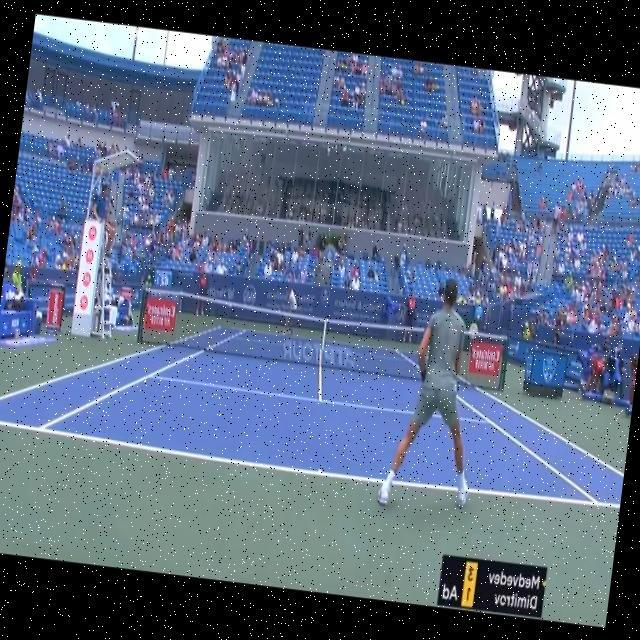court: (0, 298, 635, 513)
net: (134, 284, 514, 390)
player: (376, 273, 494, 516)
